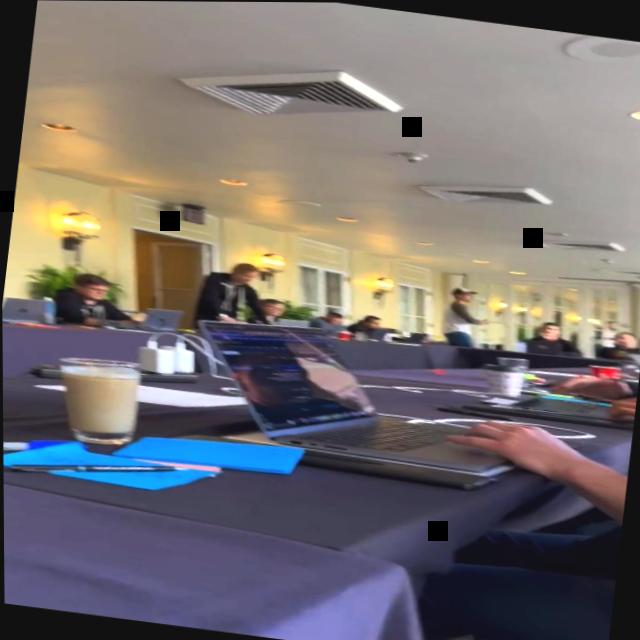NO-Mask: (82, 281, 111, 302), (236, 266, 258, 284), (538, 322, 560, 337), (263, 300, 282, 317), (614, 332, 633, 347), (324, 311, 343, 325), (457, 290, 473, 304), (367, 317, 380, 328)
